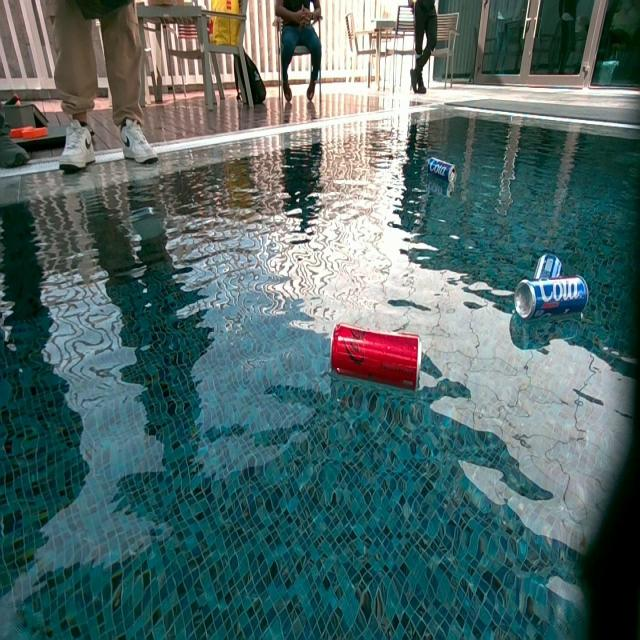Cans: (330, 326, 420, 395), (516, 272, 596, 322), (427, 158, 455, 185), (535, 254, 563, 276)
